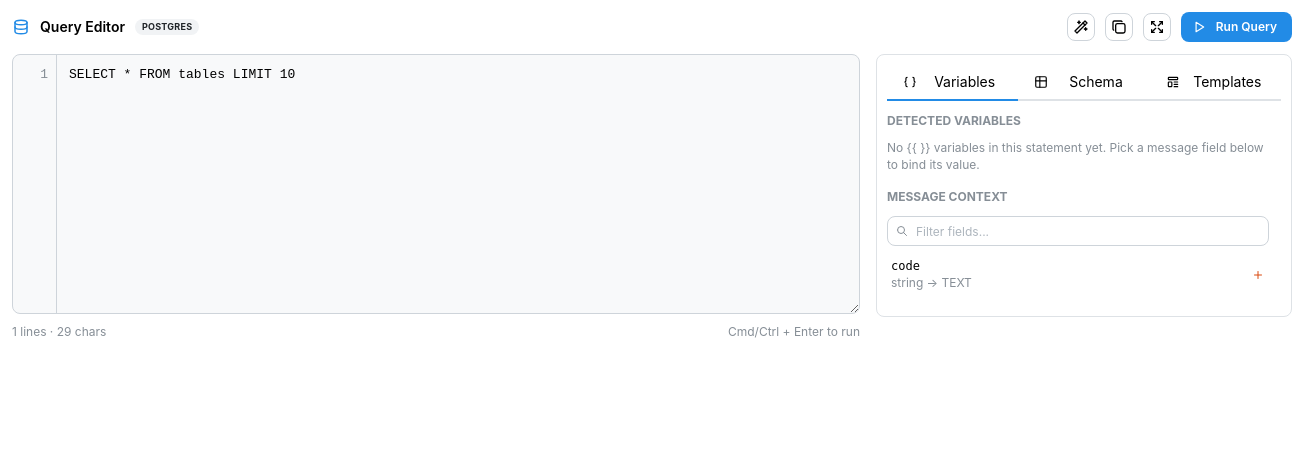
Test: SQL builder workspace › keeps a read query as it was: its default, its keywords, its button
The width and height of the screenshot is (1304, 469).
Expected: the text box named "SQL statement" holds "SELECT * FROM tables LIMIT 10", [57,55,859,313]
Expected: the button "Run Query" is shown, [1181,12,1292,42]
Click the tab "Templates" at (1215, 83), box [1150,65,1281,101]
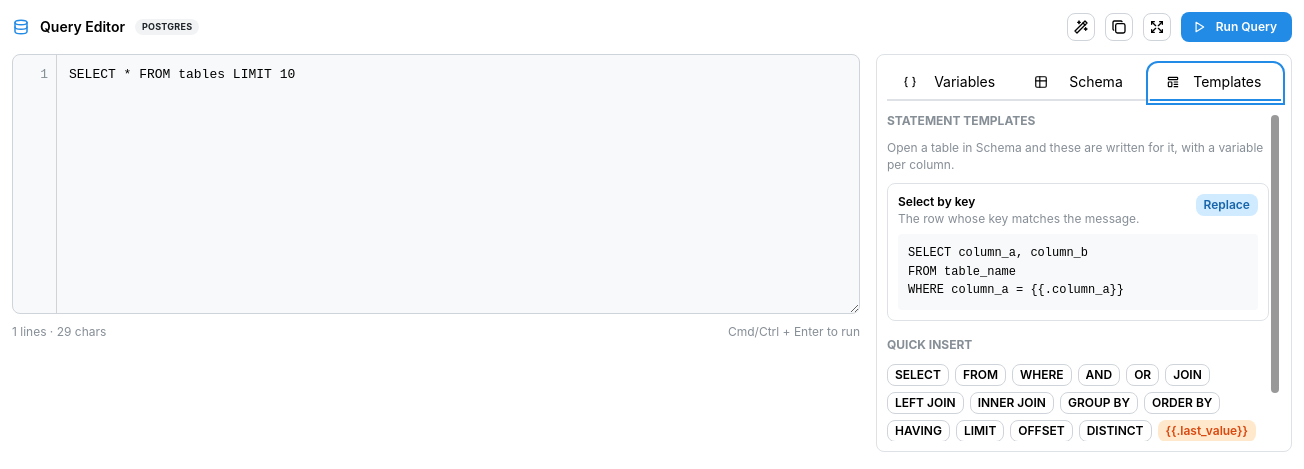
Expected: the button "GROUP BY" is shown, [1060,392,1138,414]
Expected: the button "{{.last_value}}" is shown, [1158,420,1256,441]
